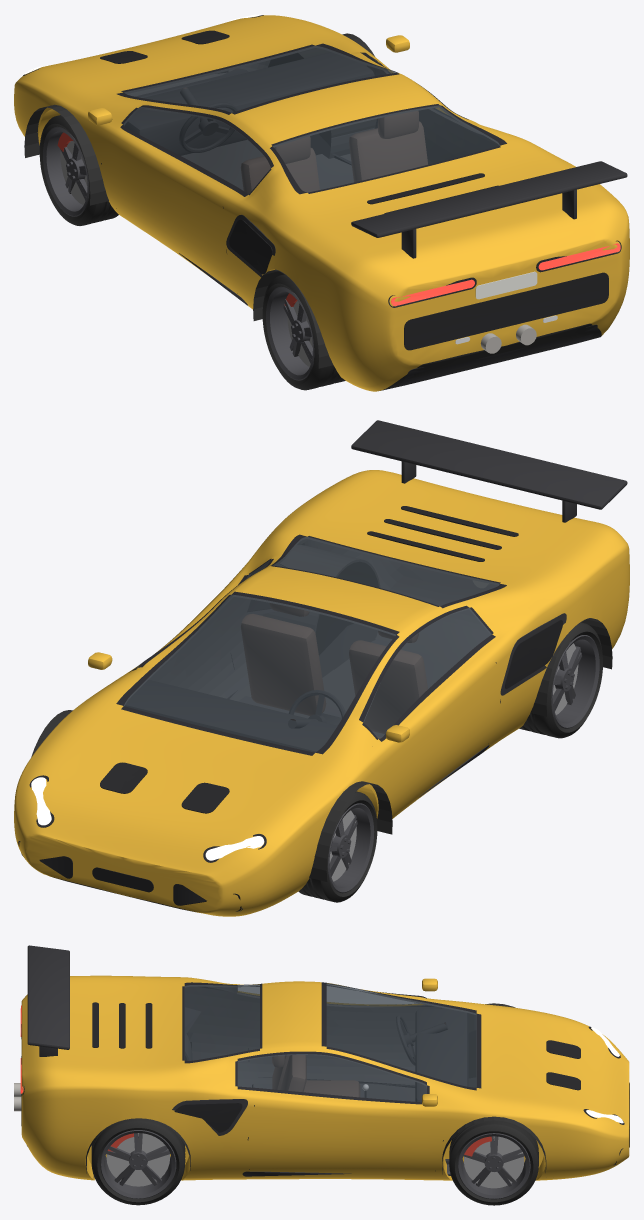
The model's file is 06_volta_x9.glb.
3 views of the same model, one above another, from view 1: azimuth 30°, elevation 25°; view 2: azimuth 150°, elevation 25°; view 3: azimuth 270°, elevation 25° (orthographic). The views are drawn at different scales.
Parts seen in each view (by area): view 1: Body.011, Glass.011, Interior.011, Interior_Shell.010, Rear_Mesh, Wing, Wheel_RL.011, Wheel_FL.011, ArchLiners.010, Diffuser.003, Lights_Tail.011, Side_Intake (+7 smaller); view 2: Body.011, Glass.011, Interior_Shell.010, Interior.011, Wing, Wheel_RL.011, ArchLiners.010, Wheel_FL.011, Side_Intake, HoodVent.002, HoodVent_L.002, Lights_Head.011 (+6 smaller); view 3: Body.011, Glass.011, Interior_Shell.010, Interior.011, Wheel_RR.011, Wheel_FR.011, Wing, ArchLiners.010, Side_Intake, Side_Intake_Frame, SteeringWheel.011, SideSkirt.004 (+3 smaller).
Part boxes in pixels (left/top/right/bottom): Body.011: left=14, top=15, right=629, bottom=391; Glass.011: left=123, top=45, right=499, bottom=194; Interior.011: left=124, top=52, right=427, bottom=194; Interior_Shell.010: left=123, top=45, right=499, bottom=177; Rear_Mesh: left=404, top=272, right=608, bottom=350; Wing: left=351, top=161, right=627, bottom=237; Wheel_RL.011: left=262, top=274, right=345, bottom=390; Wheel_FL.011: left=39, top=115, right=118, bottom=225; ArchLiners.010: left=24, top=33, right=376, bottom=368; Diffuser.003: left=401, top=324, right=597, bottom=385; Lights_Tail.011: left=391, top=243, right=620, bottom=305; Side_Intake: left=229, top=219, right=272, bottom=274; Body.011: left=14, top=470, right=629, bottom=916; Glass.011: left=124, top=536, right=499, bottom=752; Interior_Shell.010: left=124, top=536, right=499, bottom=722; Interior.011: left=125, top=603, right=427, bottom=752; Wing: left=351, top=420, right=627, bottom=509; Wheel_RL.011: left=519, top=622, right=602, bottom=738; ArchLiners.010: left=31, top=561, right=612, bottom=881; Wheel_FL.011: left=298, top=791, right=377, bottom=902; Side_Intake: left=247, top=599, right=562, bottom=688; HoodVent.002: left=100, top=762, right=147, bottom=793; HoodVent_L.002: left=181, top=782, right=229, bottom=813; Lights_Head.011: left=31, top=777, right=264, bottom=860; Body.011: left=21, top=975, right=629, bottom=1180; Glass.011: left=184, top=983, right=476, bottom=1102; Interior_Shell.010: left=93, top=985, right=476, bottom=1178; Interior.011: left=252, top=1008, right=468, bottom=1175; Wheel_RR.011: left=91, top=1118, right=185, bottom=1205; Wheel_FR.011: left=449, top=1120, right=538, bottom=1205; Wing: left=27, top=945, right=69, bottom=1049; ArchLiners.010: left=86, top=1003, right=546, bottom=1174; Side_Intake: left=174, top=1103, right=242, bottom=1132; Side_Intake_Frame: left=172, top=1007, right=247, bottom=1135; SteeringWheel.011: left=396, top=1015, right=448, bottom=1065; SideSkirt.004: left=242, top=1077, right=449, bottom=1176.
Size of what is drawn, in the model's own units: 2.16 by 1.31 by 4.61.
